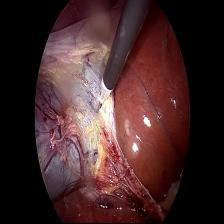Hook: (93, 77, 117, 112)
